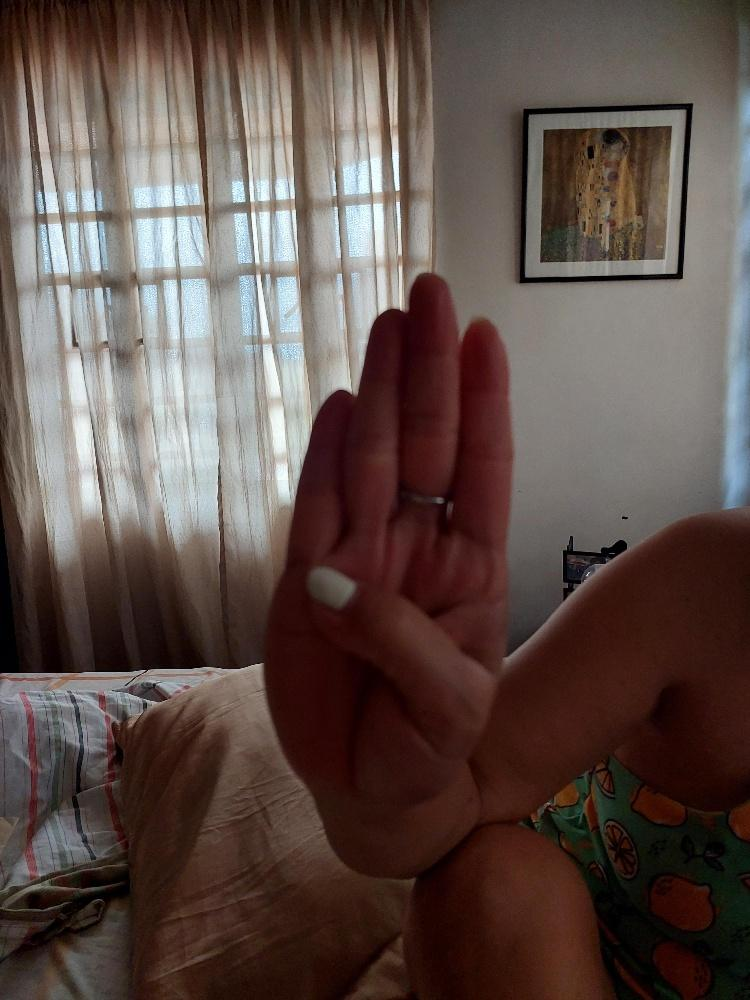b: (258, 261, 518, 815)
